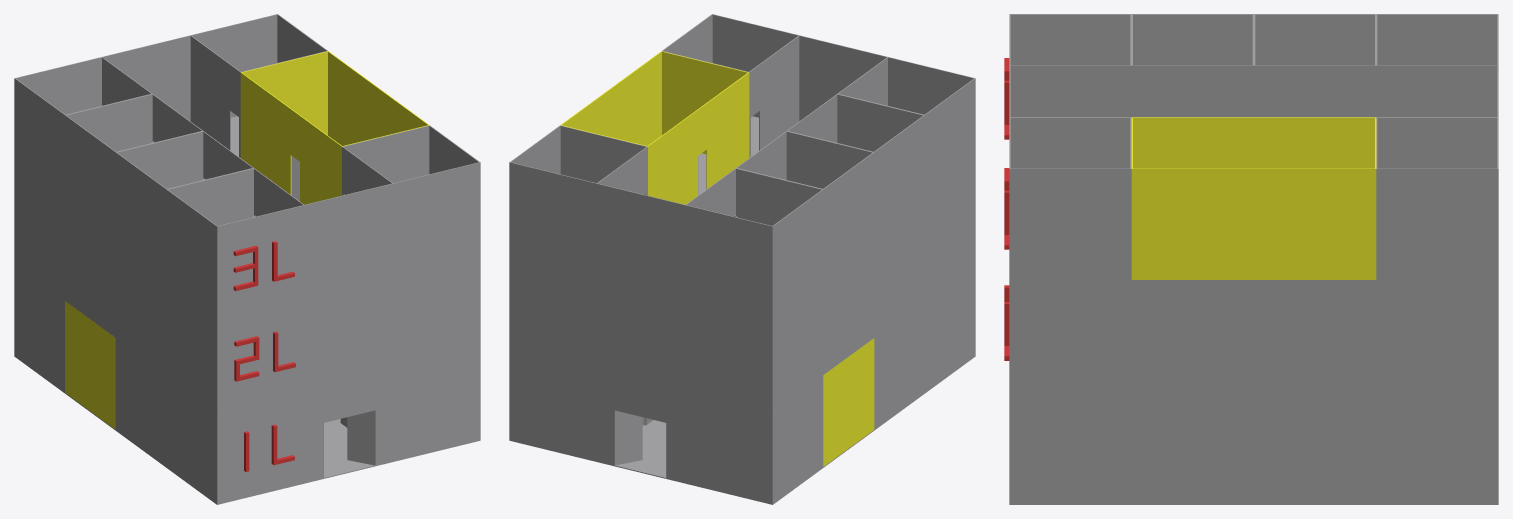
File: 第四组.glb
3 renders of one model, left to right at view 1: azimuth 30°, elevation 25°; view 2: azimuth 150°, elevation 25°; view 3: azimuth 270°, elevation 25°, orthographic. The views are drawn at different scales.
Bounding box in the file's own units: 0.015 × 0.0151 × 0.0202.
